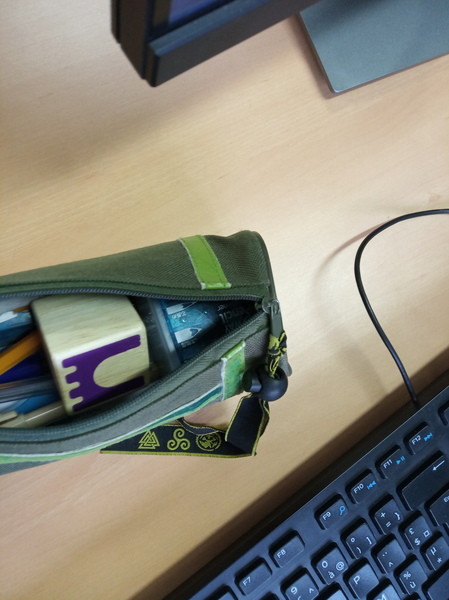violet: (35, 298, 148, 400)
